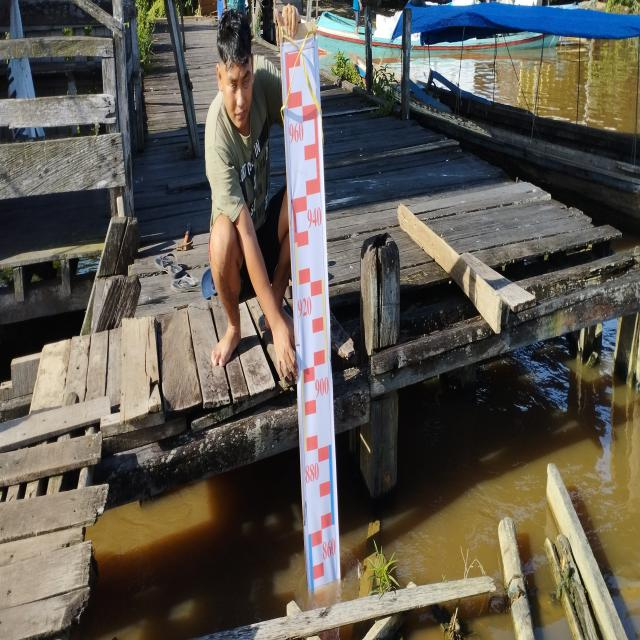ruler: (277, 30, 345, 607)
value: (286, 119, 306, 146), (306, 203, 322, 233), (295, 294, 314, 319), (314, 372, 329, 402), (304, 460, 321, 485), (322, 535, 336, 564)
